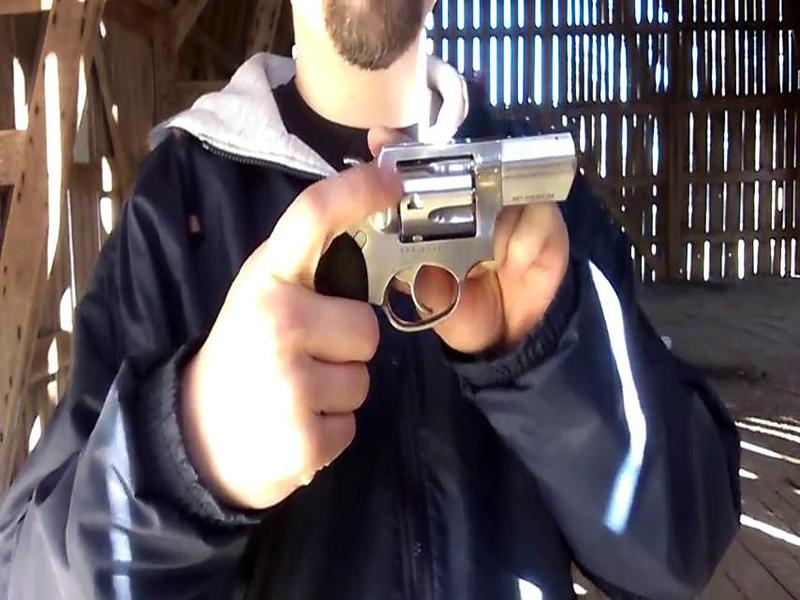Revolver: (282, 108, 610, 354)
